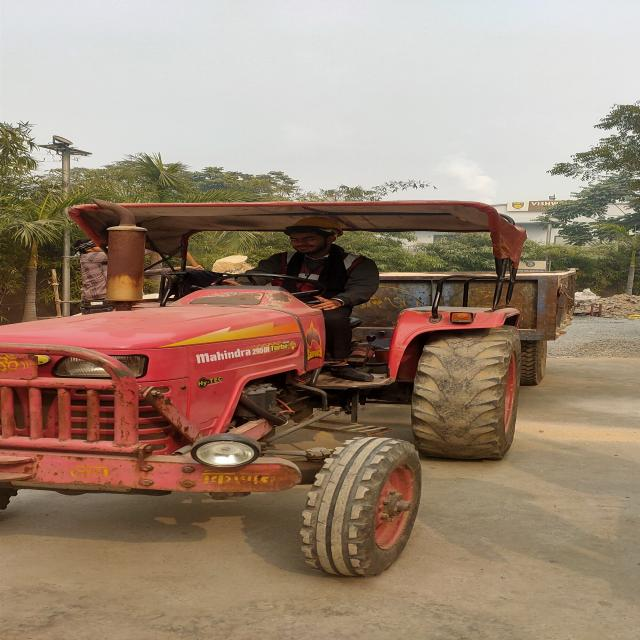safe: (248, 215, 378, 301)
